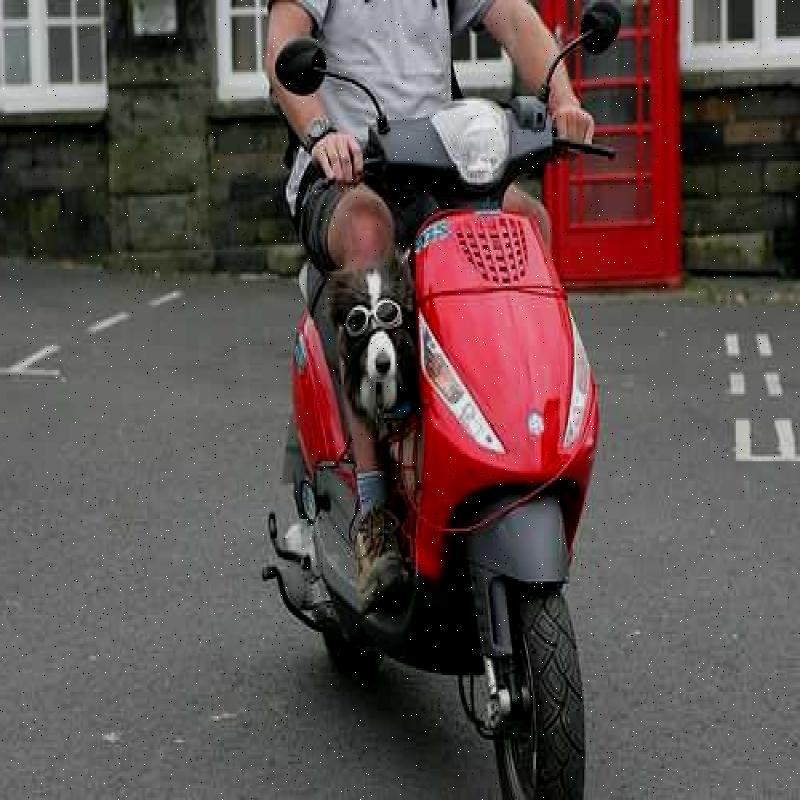bike: (274, 55, 631, 800)
